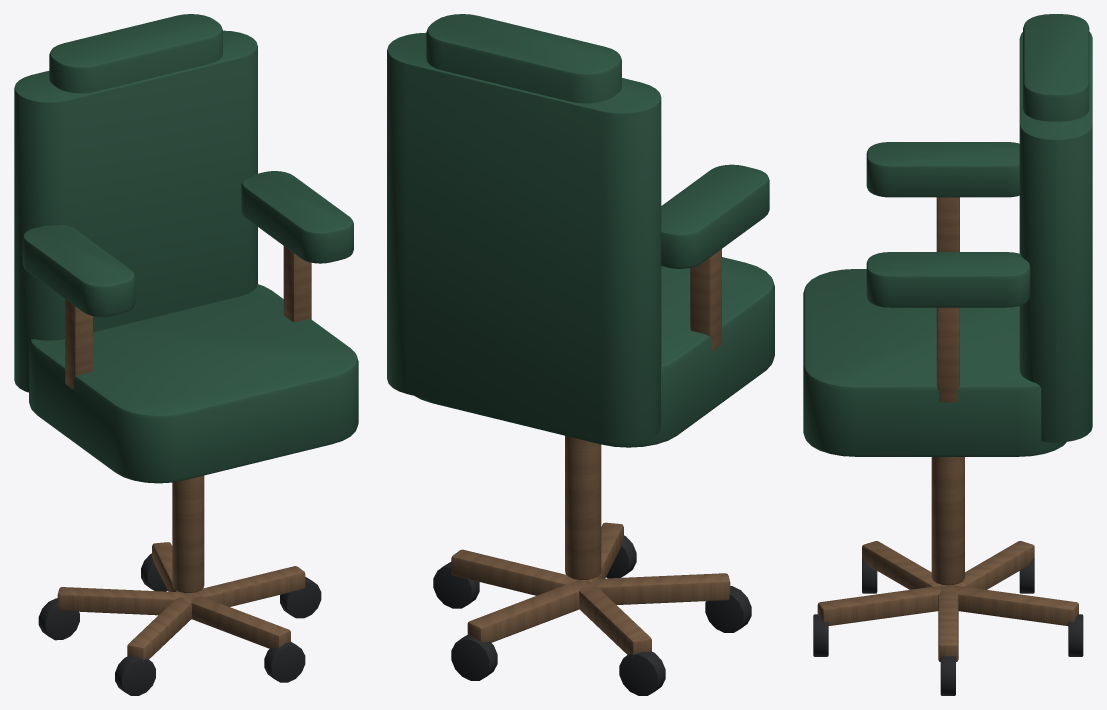
Rendered from office_chair_high_end.glb.
The picture shows the model from 3 angles, left to right: view 1: azimuth 30°, elevation 25°; view 2: azimuth 150°, elevation 25°; view 3: azimuth 270°, elevation 25°; orthographic projection. The views are drawn at different scales.
Visible parts, largest first — view 1: OfficeChair_Back, OfficeChair_Seat, OfficeChair_Headrest, OfficeChair_ArmPad_-1, OfficeChair_ArmPad_1, OfficeChair_GasLift, OfficeChair_BaseArm_3, OfficeChair_BaseArm_5, OfficeChair_BaseArm_1, OfficeChair_ArmPost_-1, OfficeChair_BaseArm_4, OfficeChair_ArmPost_1 (+6 smaller); view 2: OfficeChair_Back, OfficeChair_Seat, OfficeChair_Headrest, OfficeChair_ArmPad_-1, OfficeChair_GasLift, OfficeChair_BaseArm_4, OfficeChair_BaseArm_2, OfficeChair_BaseArm_1, OfficeChair_ArmPost_-1, OfficeChair_BaseArm_3, OfficeChair_Caster_3, OfficeChair_Caster_2 (+4 smaller); view 3: OfficeChair_Seat, OfficeChair_Back, OfficeChair_ArmPad_1, OfficeChair_ArmPad_-1, OfficeChair_Headrest, OfficeChair_GasLift, OfficeChair_BaseArm_2, OfficeChair_BaseArm_5, OfficeChair_ArmPost_1, OfficeChair_BaseArm_3, OfficeChair_BaseArm_4, OfficeChair_BaseArm_1 (+6 smaller).
Part boxes in pixels (<box>): OfficeChair_Back: <box>14,30,257,392</box>; OfficeChair_Seat: <box>29,284,358,483</box>; OfficeChair_Headrest: <box>49,14,222,93</box>; OfficeChair_ArmPad_-1: <box>22,224,135,316</box>; OfficeChair_ArmPad_1: <box>241,171,353,263</box>; OfficeChair_GasLift: <box>172,475,204,592</box>; OfficeChair_BaseArm_3: <box>57,587,183,615</box>; OfficeChair_BaseArm_5: <box>191,596,290,648</box>; OfficeChair_BaseArm_1: <box>182,566,305,606</box>; OfficeChair_ArmPost_-1: <box>65,299,92,389</box>; OfficeChair_BaseArm_4: <box>127,595,195,662</box>; OfficeChair_ArmPost_1: <box>283,246,311,321</box>; OfficeChair_Back: <box>387,32,661,443</box>; OfficeChair_Seat: <box>415,257,774,447</box>; OfficeChair_Headrest: <box>426,14,621,103</box>; OfficeChair_ArmPad_-1: <box>661,164,769,268</box>; OfficeChair_GasLift: <box>565,436,601,579</box>; OfficeChair_BaseArm_4: <box>580,573,730,604</box>; OfficeChair_BaseArm_2: <box>467,580,586,642</box>; OfficeChair_BaseArm_1: <box>451,549,576,595</box>; OfficeChair_ArmPost_-1: <box>690,249,721,351</box>; OfficeChair_BaseArm_3: <box>579,580,651,658</box>; OfficeChair_Caster_3: <box>619,651,665,695</box>; OfficeChair_Caster_2: <box>451,635,497,680</box>; OfficeChair_Seat: <box>803,269,1066,456</box>; OfficeChair_Back: <box>1019,32,1092,442</box>; OfficeChair_ArmPad_1: <box>866,252,1030,307</box>; OfficeChair_ArmPad_-1: <box>866,142,1019,197</box>; OfficeChair_Headrest: <box>1023,14,1089,121</box>; OfficeChair_GasLift: <box>931,457,964,585</box>; OfficeChair_BaseArm_2: <box>946,585,1078,625</box>; OfficeChair_BaseArm_5: <box>817,585,946,625</box>; OfficeChair_ArmPost_1: <box>936,307,959,402</box>; OfficeChair_BaseArm_3: <box>944,541,1034,589</box>; OfficeChair_BaseArm_4: <box>862,541,943,589</box>; OfficeChair_BaseArm_1: <box>938,586,958,661</box>.
Size of what is drawn, in the model's own units: 0.5504 by 1.11 by 0.4979.
3 materials, 1 textured.
